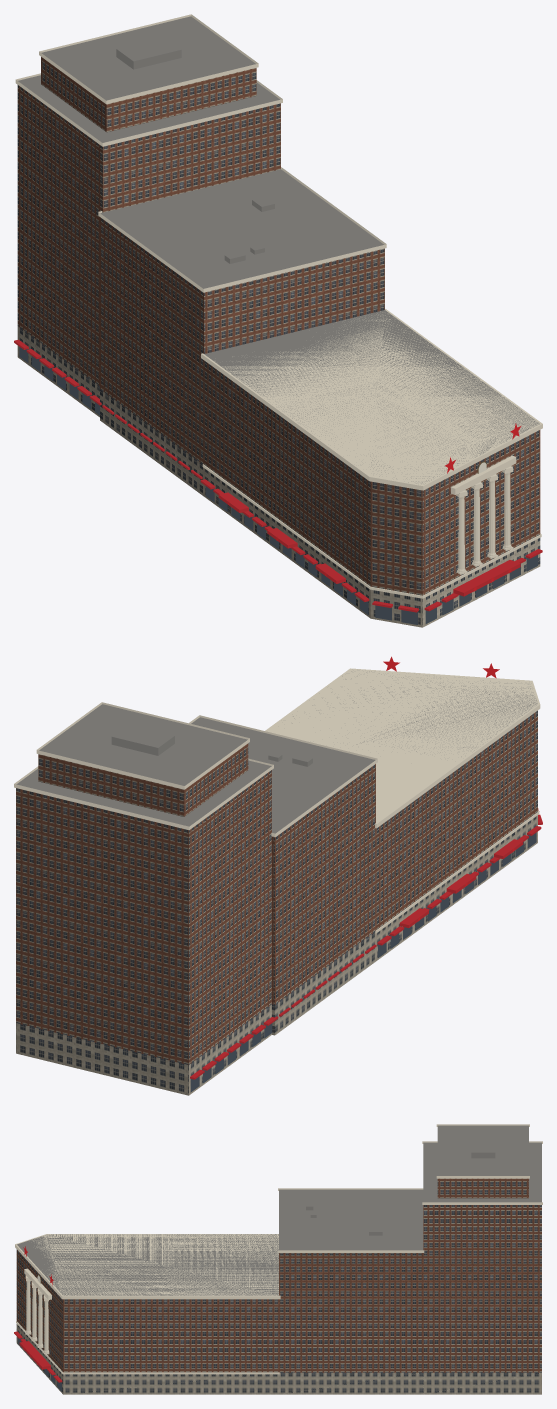
The model's file is macys_herald_square.glb.
3 views of the same model, one above another, from view 1: azimuth 30°, elevation 25°; view 2: azimuth 150°, elevation 25°; view 3: azimuth 270°, elevation 25° (orthographic). The views are drawn at different scales.
Parts seen in each view (by area): view 1: macys_herald_square; view 2: macys_herald_square; view 3: macys_herald_square.
Part boxes in pixels (x1,y1,x2,y2): macys_herald_square: (14,14,542,627); macys_herald_square: (14,656,542,1095); macys_herald_square: (14,1124,542,1394).
Bounding box in the file's own units: 64.21 × 101 × 220.
Materials: 3 (3 with a texture image).
